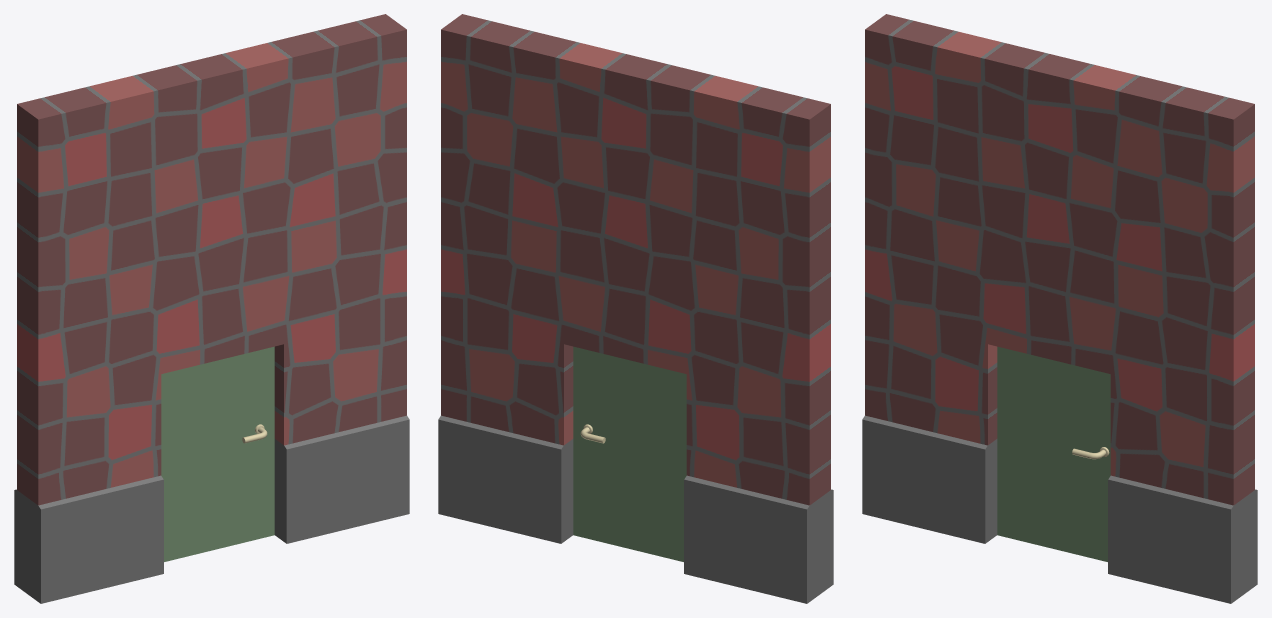
Rendered from SingleDoorway.fbx.
3 renders of one model, left to right at view 1: azimuth 30°, elevation 25°; view 2: azimuth 150°, elevation 25°; view 3: azimuth 330°, elevation 25°, orthographic.
Visible parts, largest first — view 1: Doorway, Door; view 2: Doorway, Door; view 3: Doorway, Door.
Part boxes in pixels (x1,y1,x2,y2): Doorway: (14,14,409,603); Door: (161,346,274,561); Doorway: (438,14,833,603); Door: (573,346,686,561); Doorway: (862,14,1257,603); Door: (997,346,1110,561).
Size of the model in its own units: 400 by 500 by 50.
